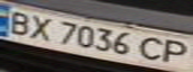0: (72, 22, 96, 51)
3: (93, 26, 115, 54)
6: (112, 29, 136, 57)
7: (51, 19, 78, 47)
B: (0, 8, 36, 36)
C: (136, 34, 169, 63)
P: (157, 37, 193, 65)
X: (21, 12, 57, 43)
